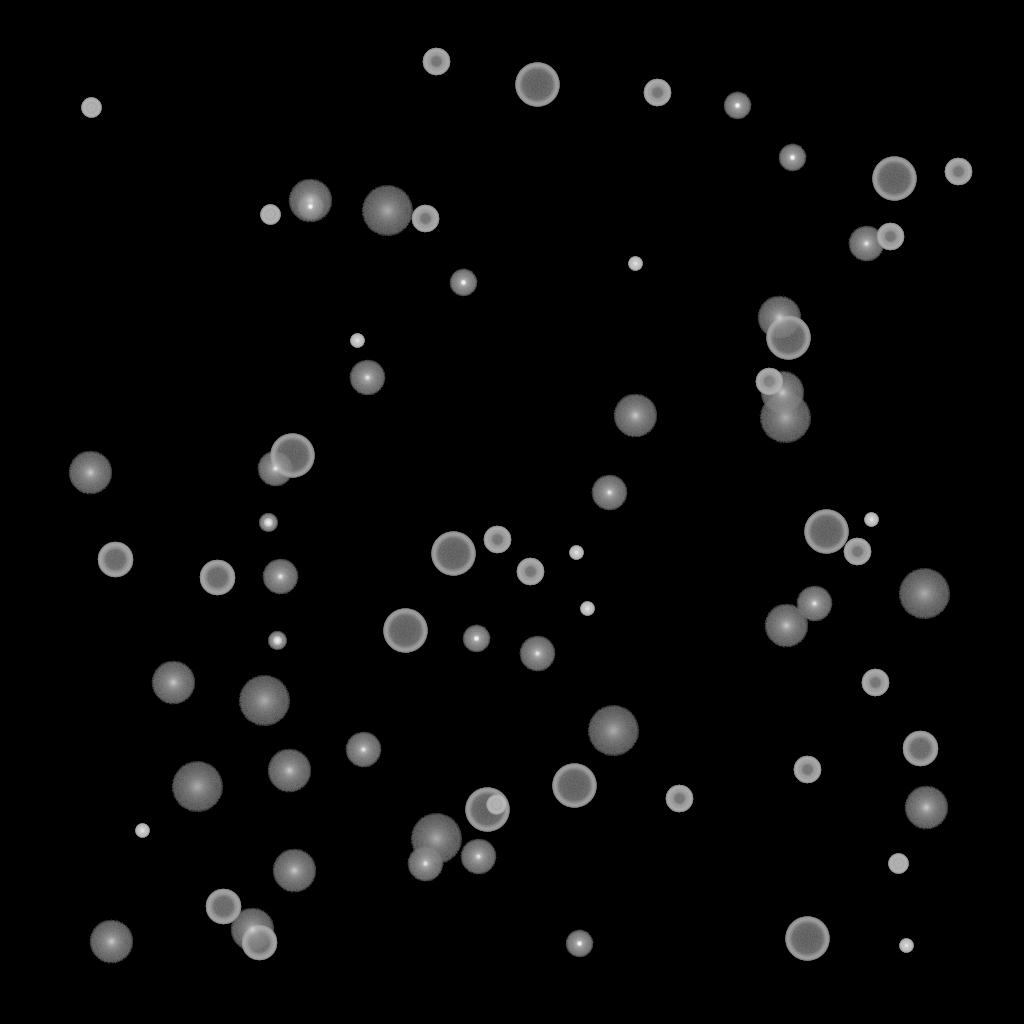depth:-10: (723, 92, 751, 120), (565, 930, 593, 958), (462, 625, 490, 653), (778, 144, 806, 172), (296, 193, 324, 221), (449, 269, 477, 297)
depth:-20: (259, 514, 277, 532), (268, 632, 286, 650)
depth:-30: (628, 257, 642, 271), (350, 334, 364, 348), (580, 602, 594, 616), (864, 513, 878, 527), (569, 546, 583, 560), (135, 824, 149, 838), (899, 939, 913, 953)
depth:-40: (81, 98, 101, 118), (486, 795, 506, 815), (888, 854, 908, 874), (260, 205, 280, 225)
depth:-50: (876, 223, 904, 251), (483, 526, 511, 554), (411, 205, 439, 233), (861, 669, 889, 697), (665, 785, 693, 813), (422, 48, 450, 76), (793, 756, 821, 784), (516, 558, 544, 586), (944, 158, 972, 186), (755, 368, 783, 396), (643, 79, 671, 107), (843, 538, 871, 566)
depth:-60: (97, 542, 133, 578), (241, 925, 277, 961), (199, 560, 235, 596), (902, 731, 938, 767), (205, 889, 241, 925)
depth:-70: (872, 157, 916, 201), (383, 609, 427, 653), (804, 510, 848, 554), (515, 63, 559, 107), (431, 532, 475, 576), (766, 316, 810, 360), (270, 434, 314, 478), (785, 917, 829, 961), (552, 764, 596, 808), (465, 788, 509, 832)
depth:0: (796, 586, 832, 622), (519, 636, 555, 672), (848, 226, 884, 262), (262, 559, 298, 595), (407, 846, 443, 882), (257, 451, 293, 487), (345, 732, 381, 768), (591, 475, 627, 511), (349, 360, 385, 396), (460, 839, 496, 875)
depth:10: (764, 604, 808, 648), (613, 394, 657, 438), (288, 179, 332, 223), (904, 786, 948, 830), (267, 749, 311, 793), (760, 371, 804, 415), (89, 920, 133, 964), (230, 908, 274, 952), (68, 451, 112, 495), (151, 661, 195, 705), (757, 296, 801, 340), (272, 849, 316, 893)
depth:20: (898, 569, 950, 619), (361, 186, 413, 236), (410, 814, 462, 864), (238, 676, 290, 726), (171, 762, 223, 812), (587, 706, 639, 756), (759, 393, 811, 443)
